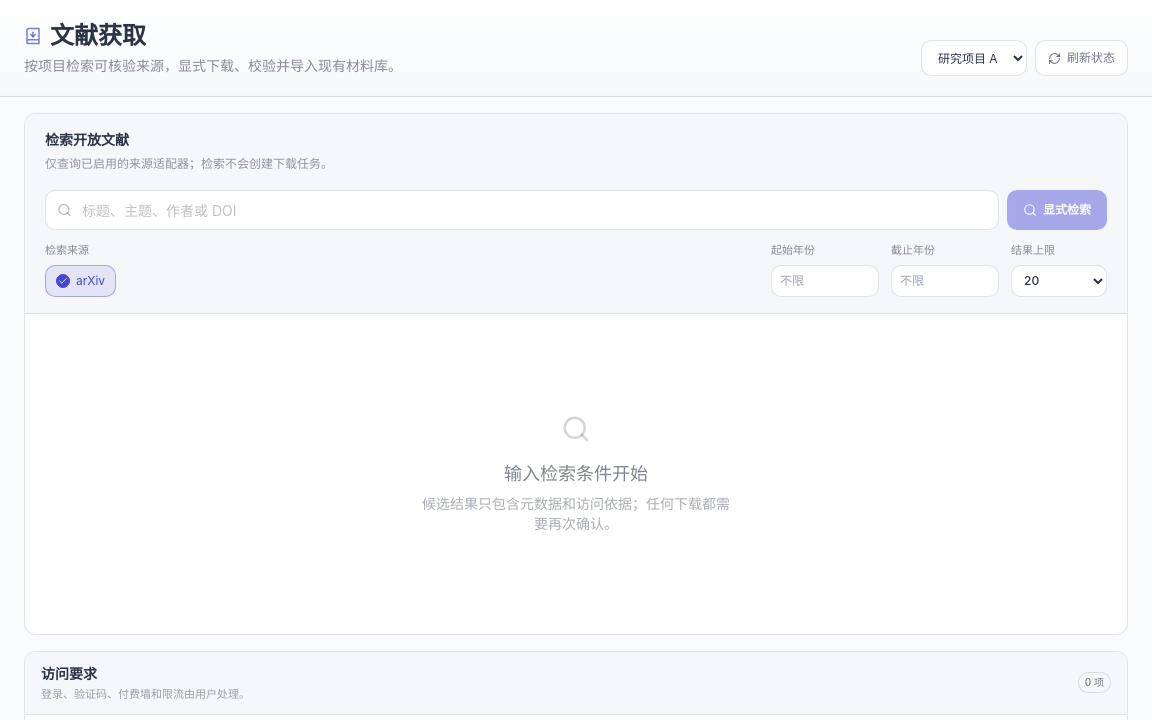
it: LiteratureAcquisition › keeps project B status when a project A refresh resolves late
Click the button "刷新状态".
click(1082, 58)  # box x1=1035 y1=40 x2=1128 y2=76
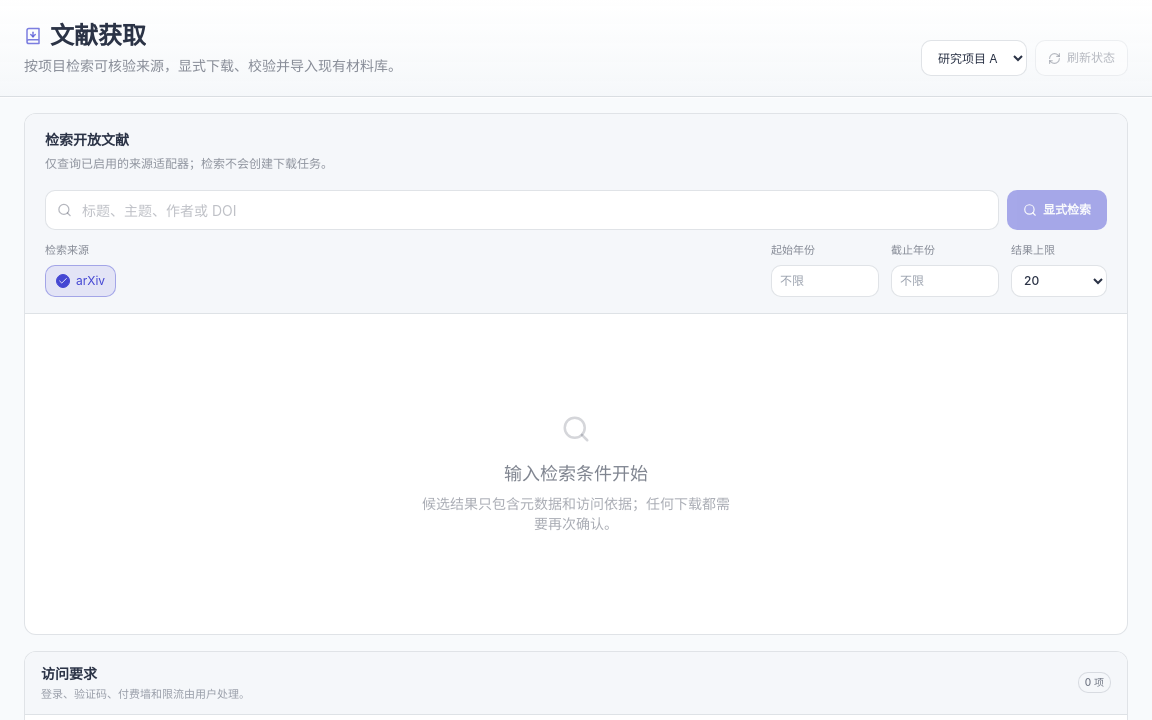
Select "研究项目 B" in the dropdown named "选择项目" at (974, 58), box x1=921 y1=40 x2=1027 y2=76
(page scrolled)
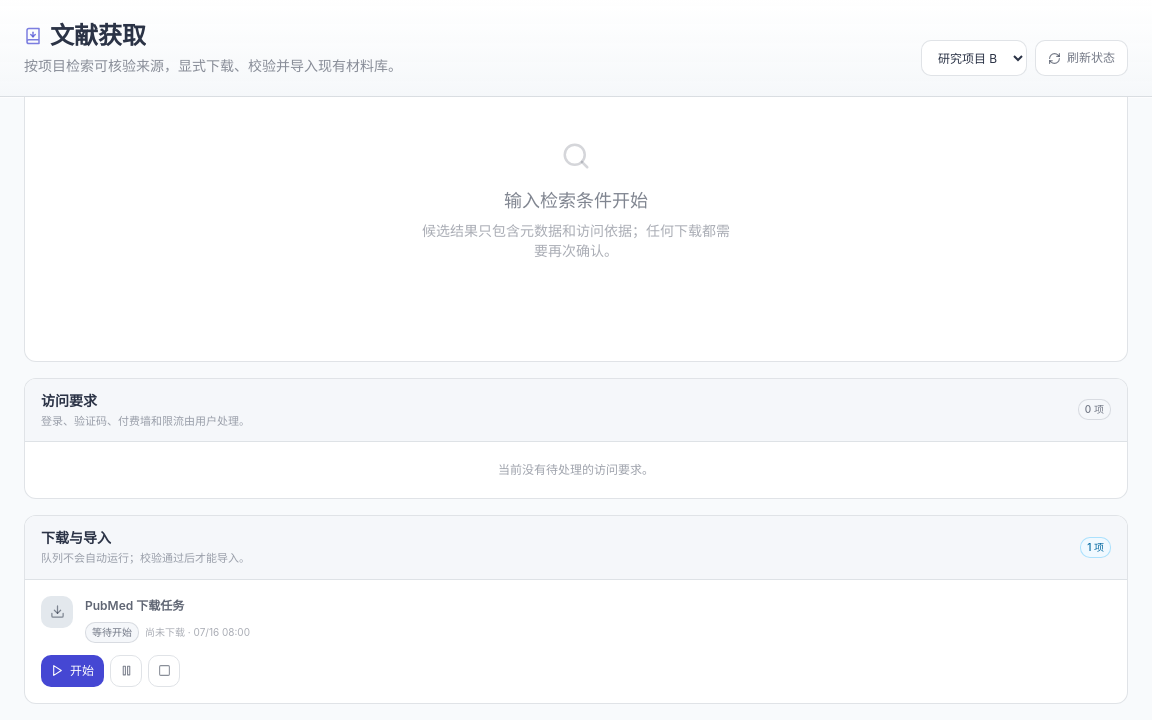
Expected: the text "PubMed 下载任务" is shown, x1=85 y1=598 x2=184 y2=612
